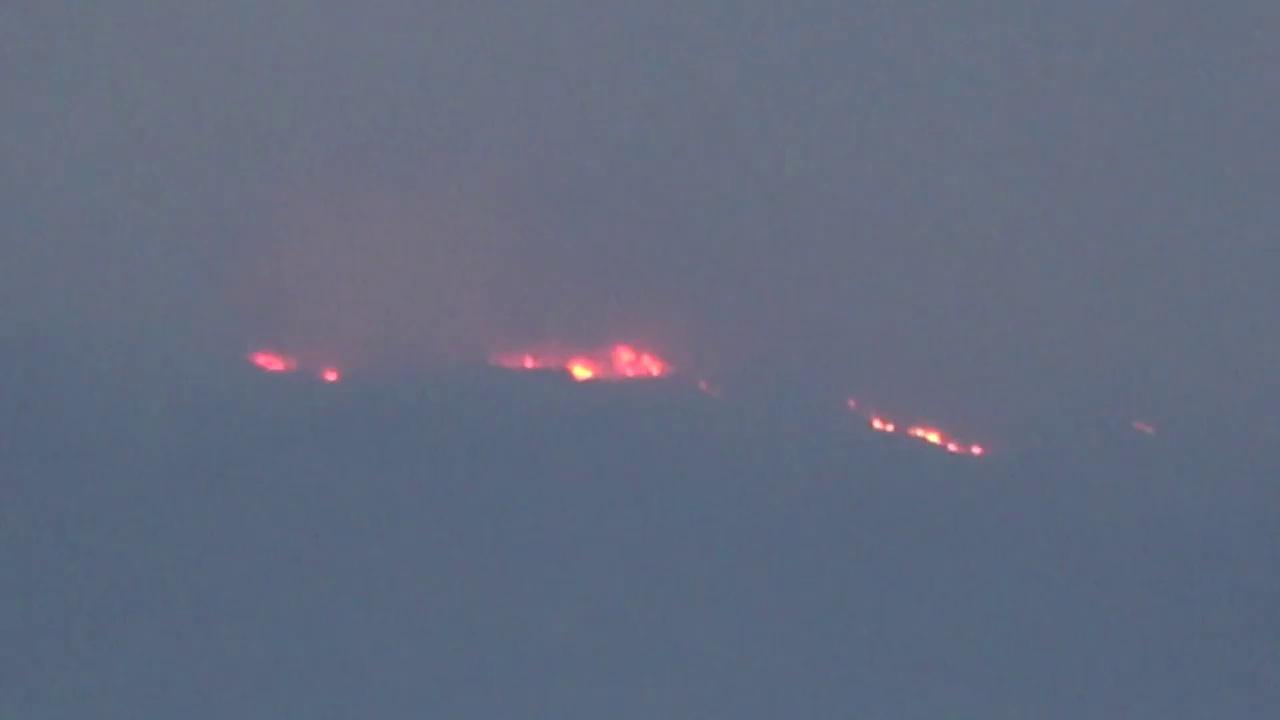fire: (496, 350, 666, 385), (873, 416, 984, 454), (249, 350, 292, 372), (320, 365, 342, 382)
